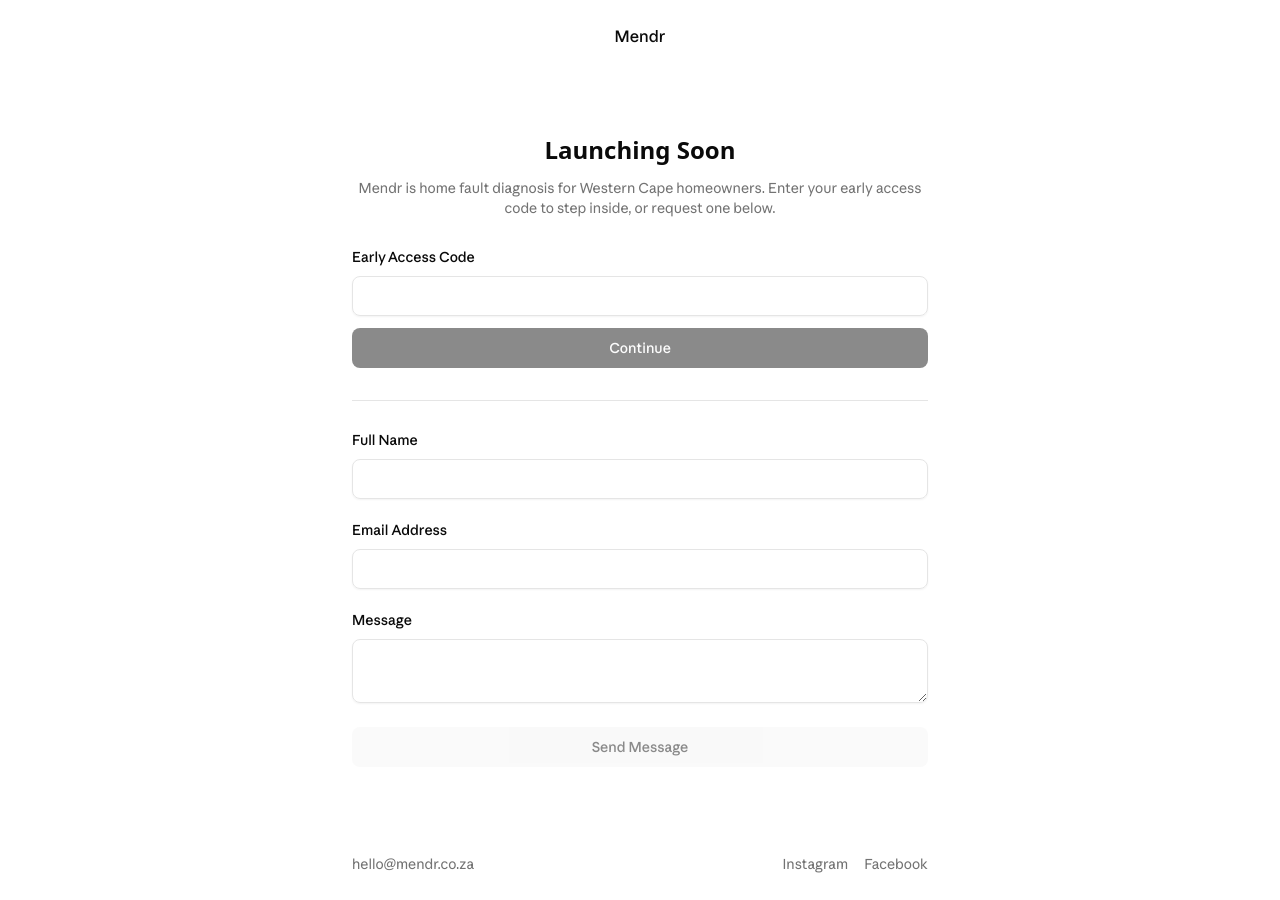
Test: ComingSoonClient — beta-access form › shows "Incorrect code." and clears the field on a 401
This screenshot has width=1280, height=900.
Type "wrong" into the password field labelled "Early Access Code".
click(640, 296); type("wrong")  # box [352,276,928,316]
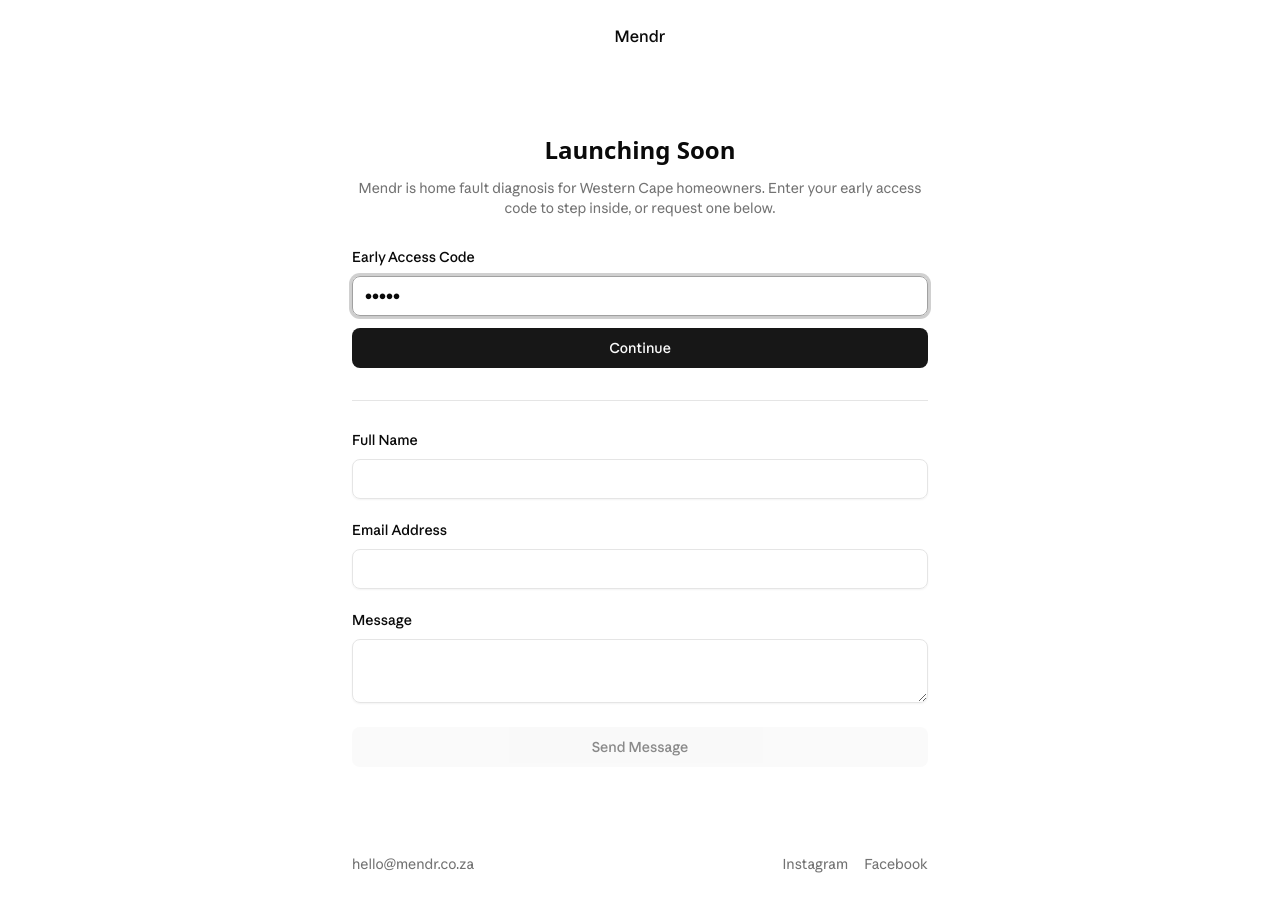
Click the button "Continue".
click(640, 348)  # box [352,328,928,368]
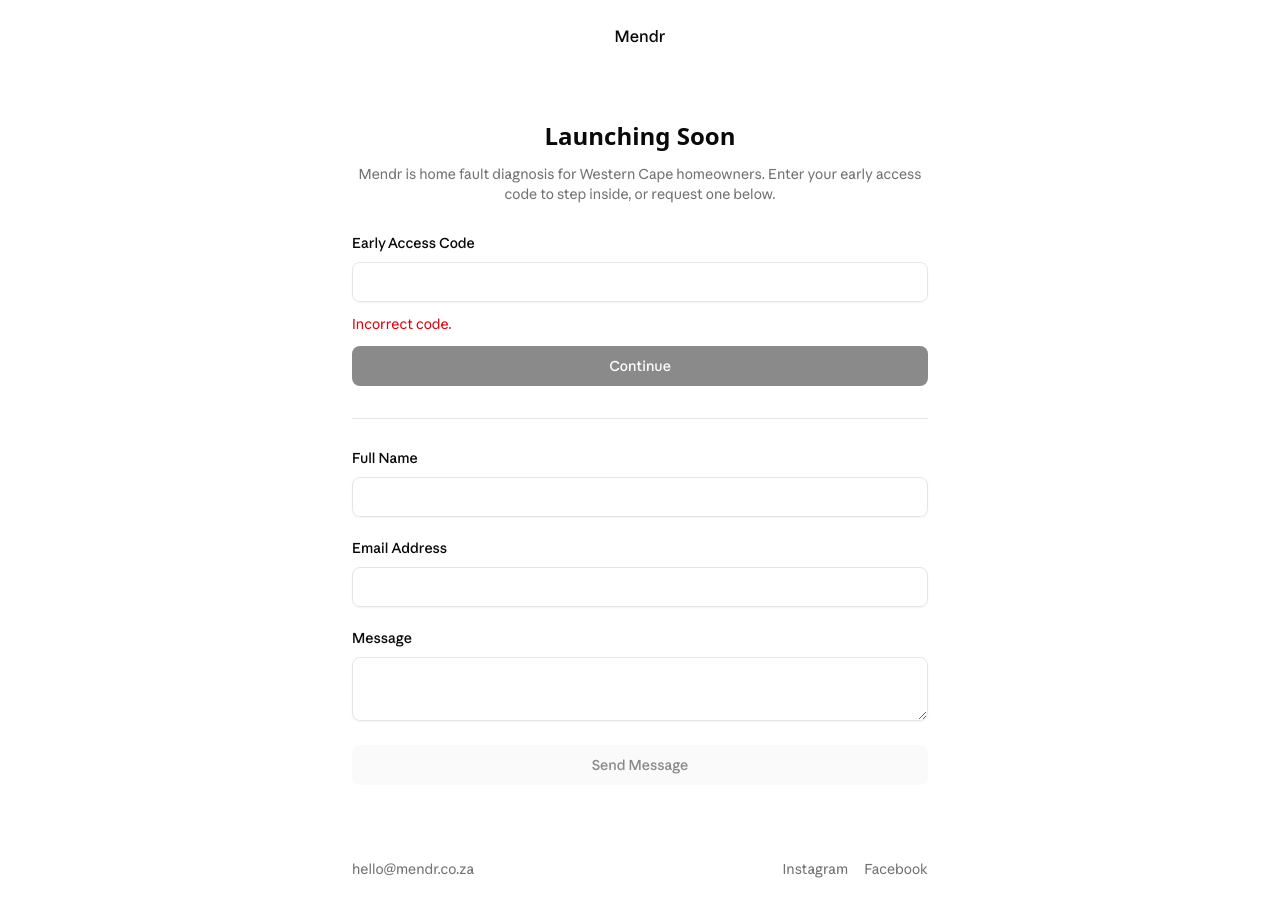
Check: the text "Incorrect code." is shown, box [352,315,452,333]
Check: the password field labelled "Early Access Code" is empty, box [352,262,928,302]
